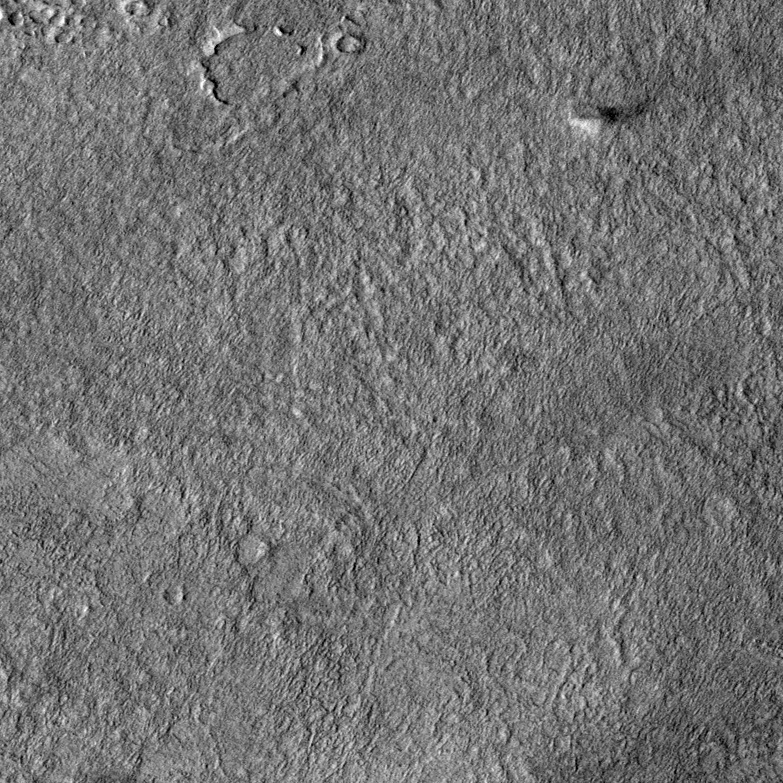dust_devil: (566, 95, 657, 137)
